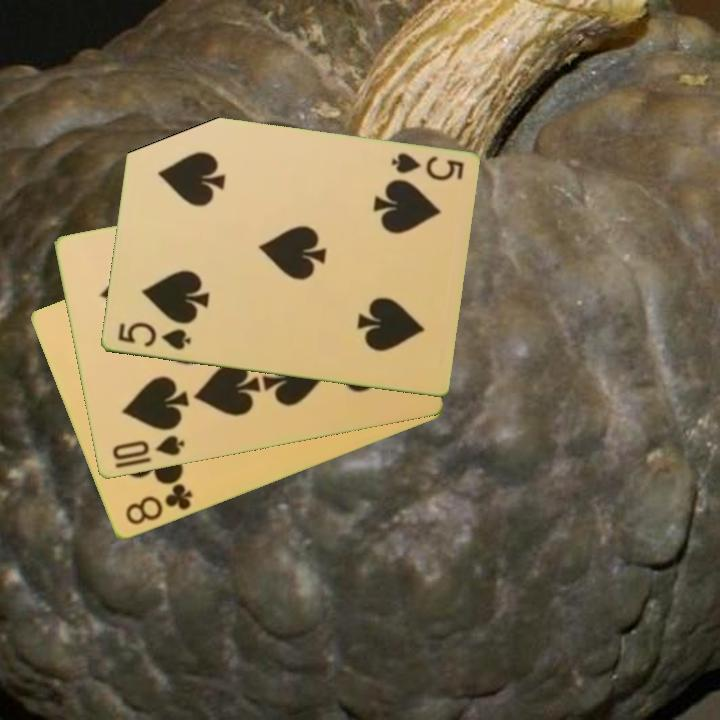10s: (108, 432, 188, 472)
5s: (387, 149, 467, 184), (114, 319, 194, 353)
8c: (121, 480, 196, 529)
